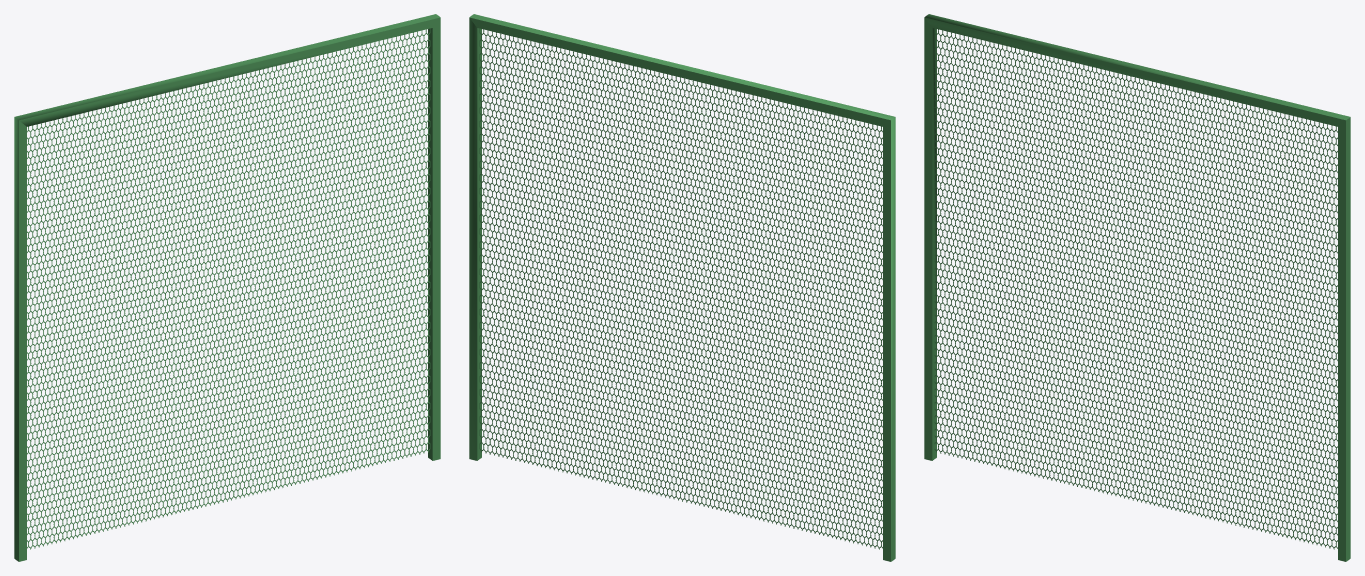
Rendered from 00e0_Fence.glb.
3 views of the same model, side by side, from view 1: azimuth 30°, elevation 25°; view 2: azimuth 150°, elevation 25°; view 3: azimuth 330°, elevation 25° (orthographic).
Parts seen in each view (by area): view 1: part_0; view 2: part_0; view 3: part_0.
Boxes of the visible parts, box(x1,y1,x2,y2) form: part_0: box(14, 14, 440, 561); part_0: box(469, 14, 895, 561); part_0: box(924, 14, 1350, 561).
Size of the model in its own units: 2.6 by 2.6 by 0.05.
1 material, 1 textured.
